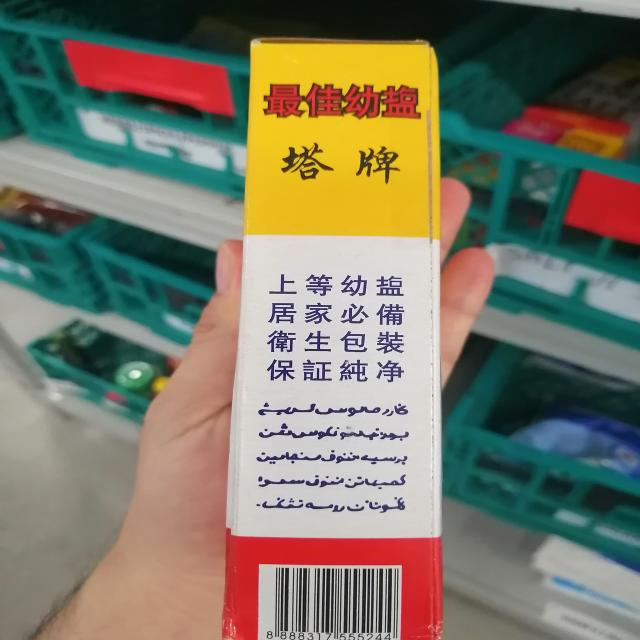object_name: (245, 38, 439, 640)
